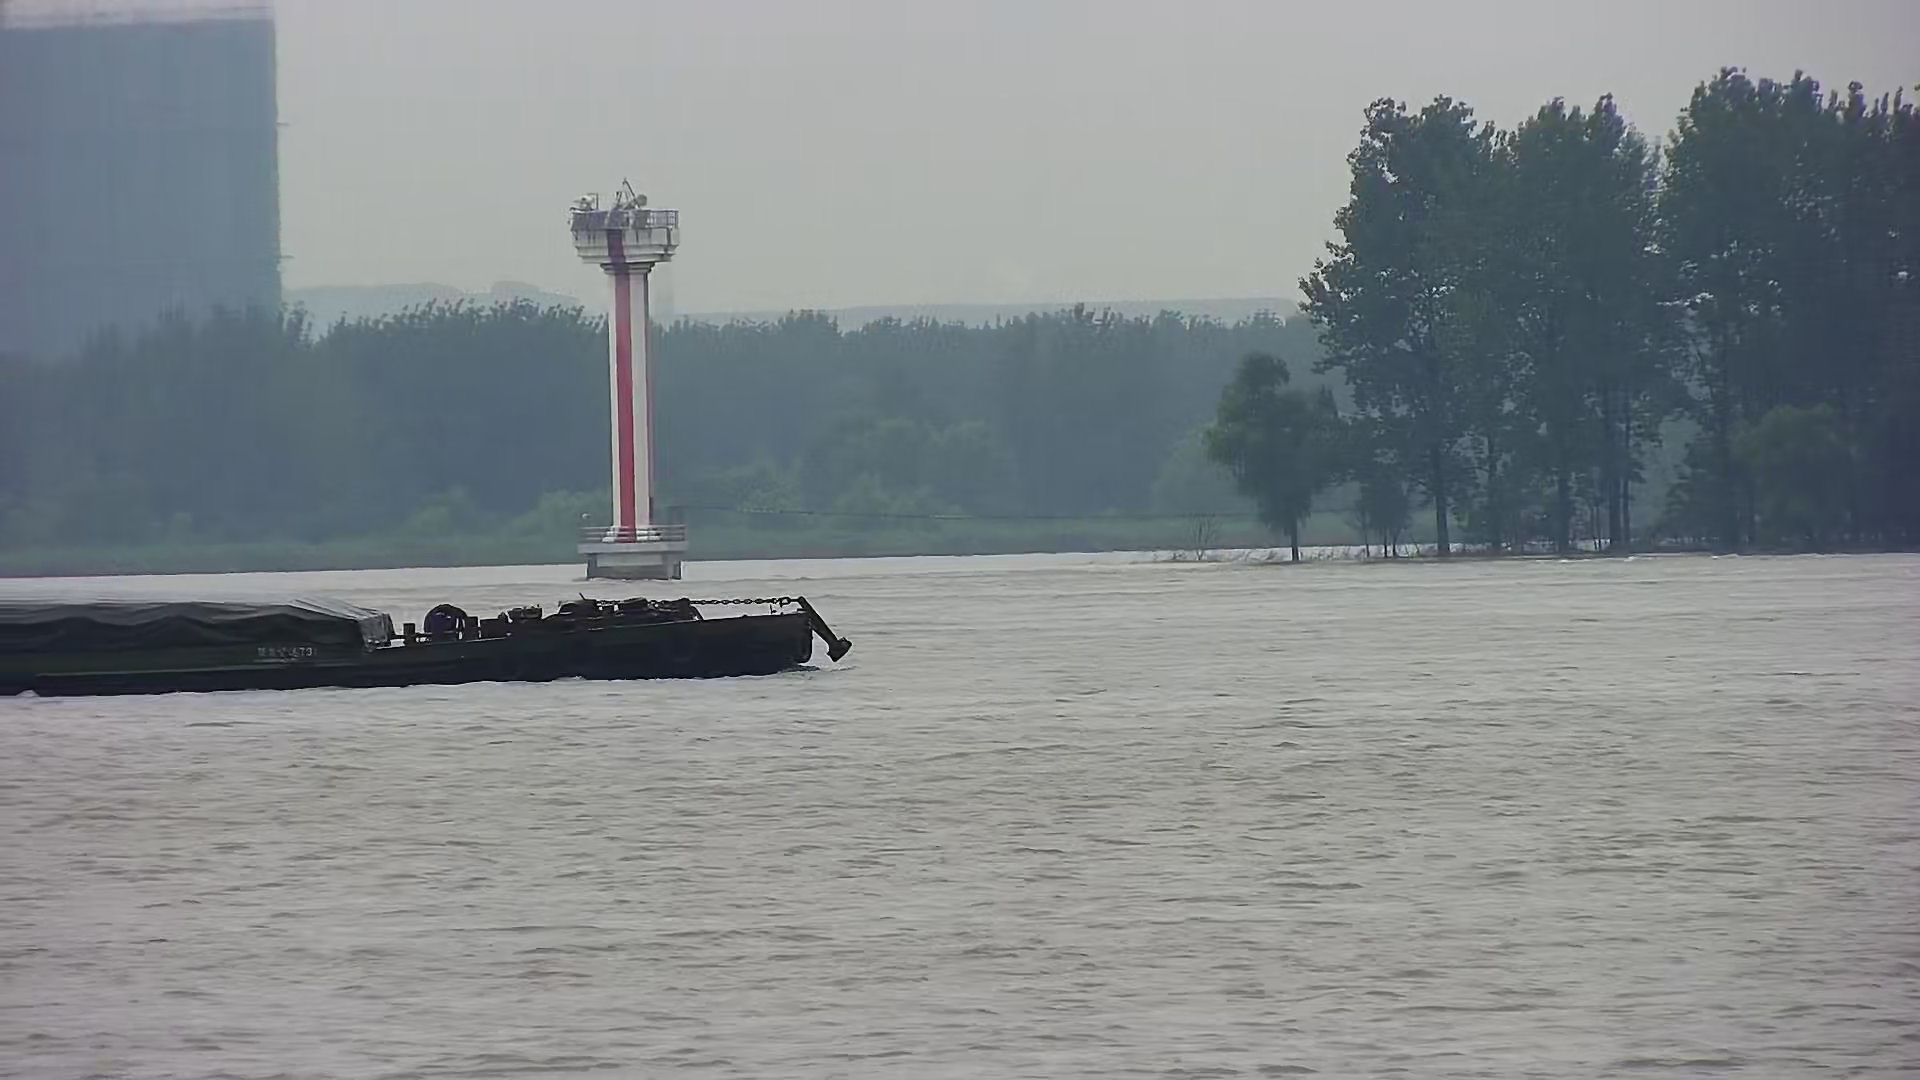platform: (571, 186, 687, 582)
ship: (1, 595, 851, 695)
tree: (1473, 92, 1685, 545), (1648, 67, 1840, 554), (1332, 87, 1509, 558), (1756, 65, 1920, 556), (1191, 363, 1352, 556)
